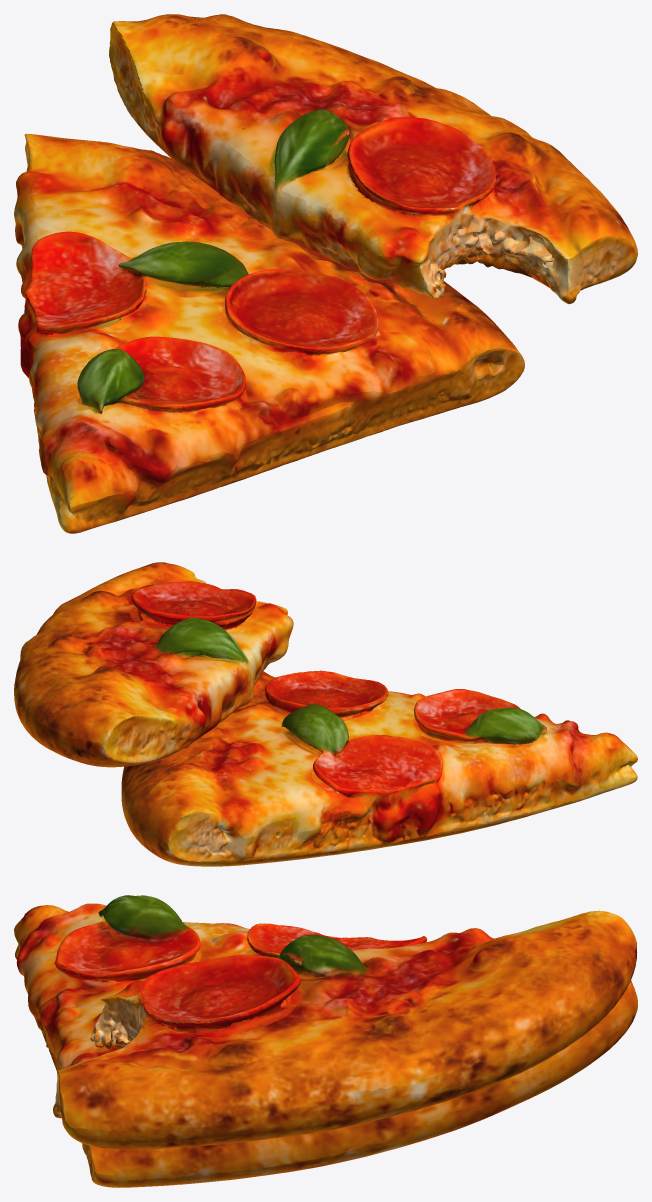
File: pepperoni-pizza-3.glb
3 renders of one model, top to bottom at view 1: azimuth 30°, elevation 25°; view 2: azimuth 150°, elevation 25°; view 3: azimuth 270°, elevation 25°, orthographic. The views are drawn at different scales.
Parts seen in each view (by area): view 1: geometry_0; view 2: geometry_0; view 3: geometry_0.
Part boxes in pixels (x1,y1,x2,y2): geometry_0: (14,14,637,533); geometry_0: (14,562,637,866); geometry_0: (14,895,637,1187).
Size of the model in its own units: 0.28 by 0.1014 by 0.2483.
Materials: 1 (1 with a texture image).
